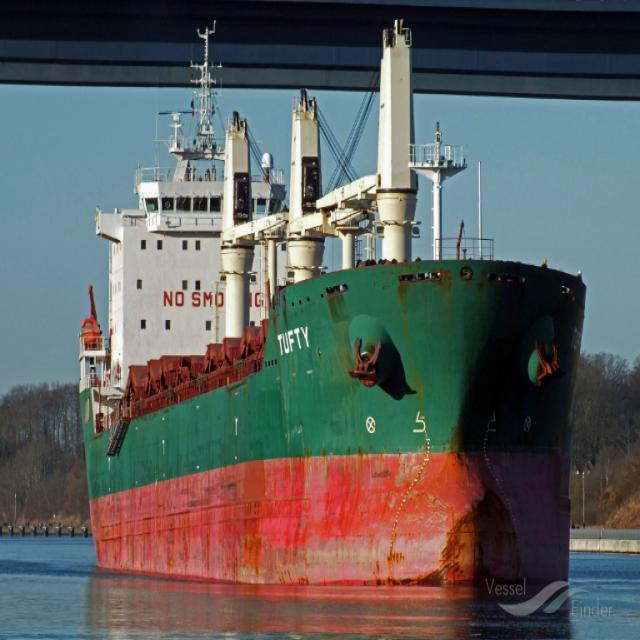OCR: (270, 324, 313, 364)
